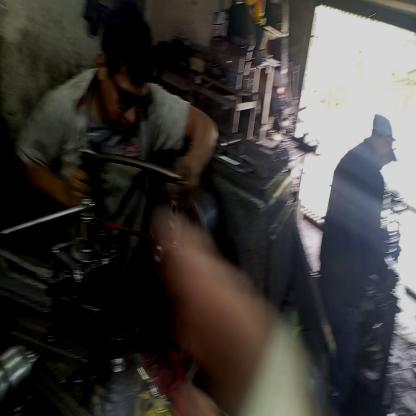lentes: (105, 67, 151, 118)
